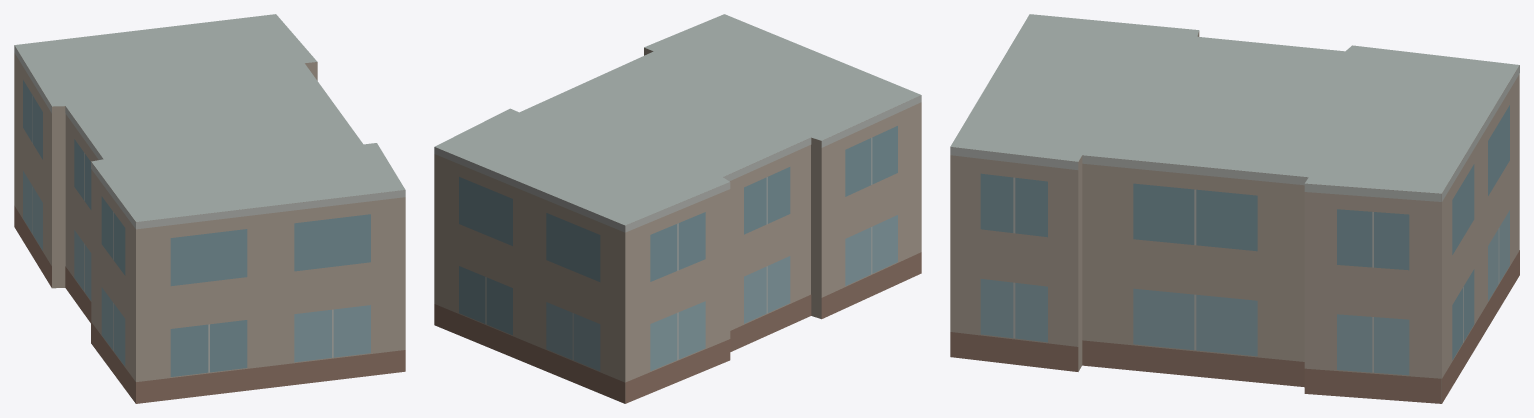
Rendered from survey-upis-32876630.glb.
The picture shows the model from 3 angles, left to right: view 1: azimuth 30°, elevation 25°; view 2: azimuth 150°, elevation 25°; view 3: azimuth 270°, elevation 25°; orthographic projection. The views are drawn at different scales.
Parts seen in each view (by area): view 1: survey-upis-32876630.tmp; view 2: survey-upis-32876630.tmp; view 3: survey-upis-32876630.tmp.
Boxes of the visible parts, x1=… form: survey-upis-32876630.tmp: x1=14, y1=14, x2=405, y2=403; survey-upis-32876630.tmp: x1=434, y1=14, x2=921, y2=403; survey-upis-32876630.tmp: x1=950, y1=14, x2=1519, y2=403.
Size of the model in its own units: 11.19 by 6.1 by 14.99.
